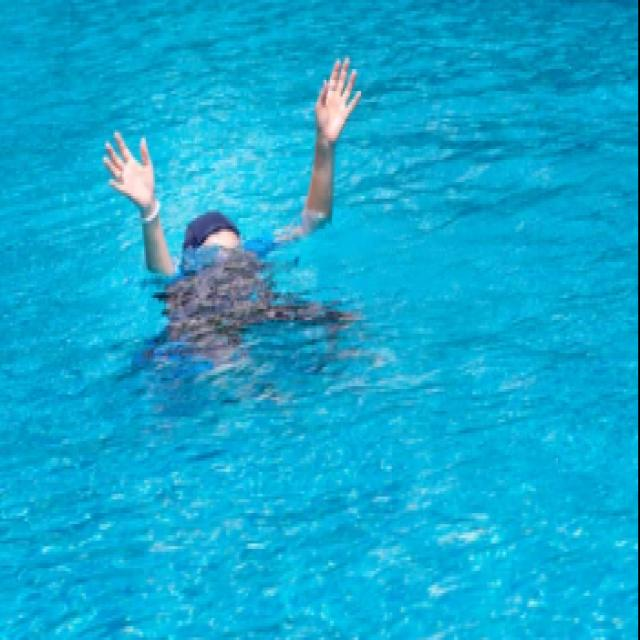Drowning: (104, 49, 364, 306)
